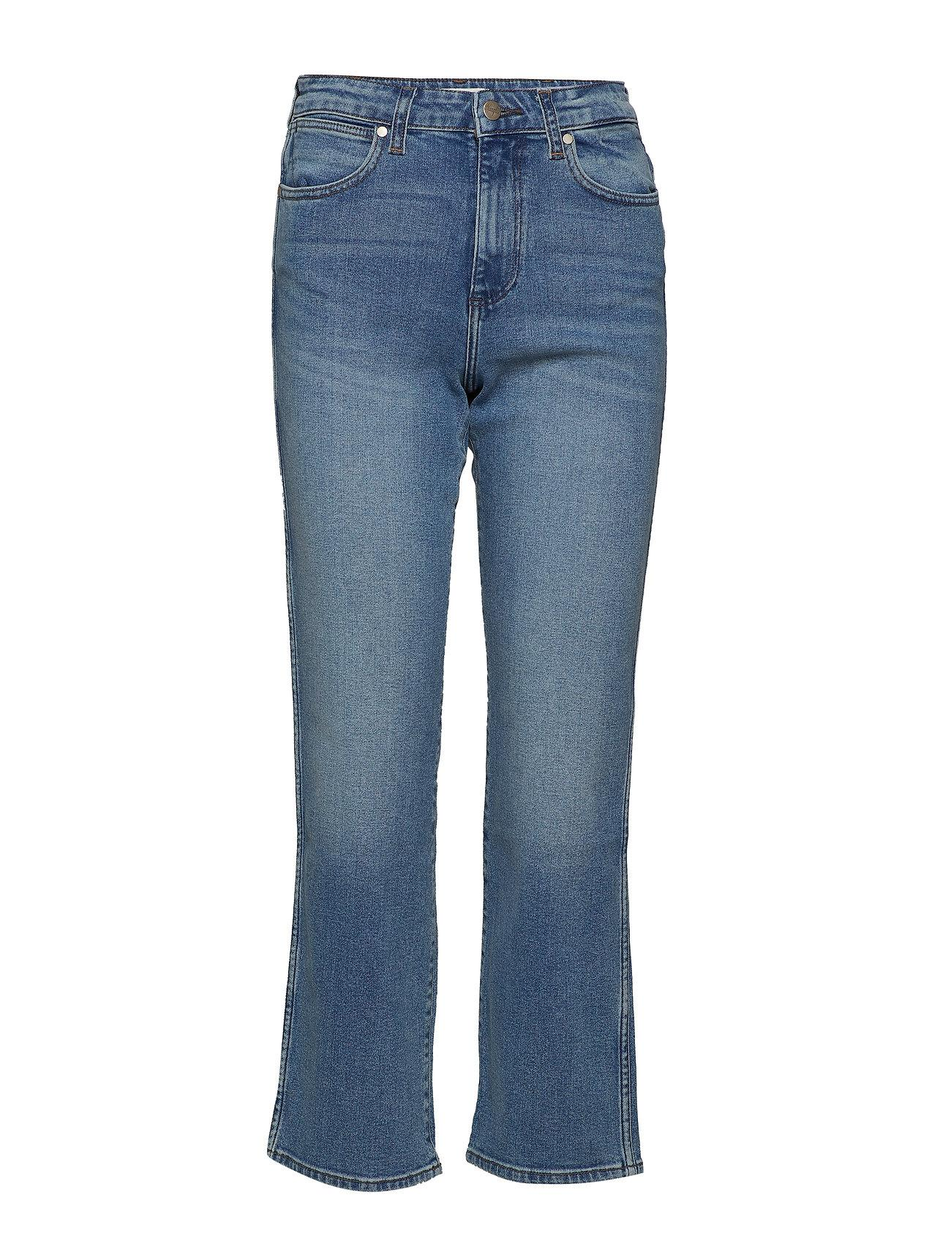Jeans: (260, 62, 674, 1204)
